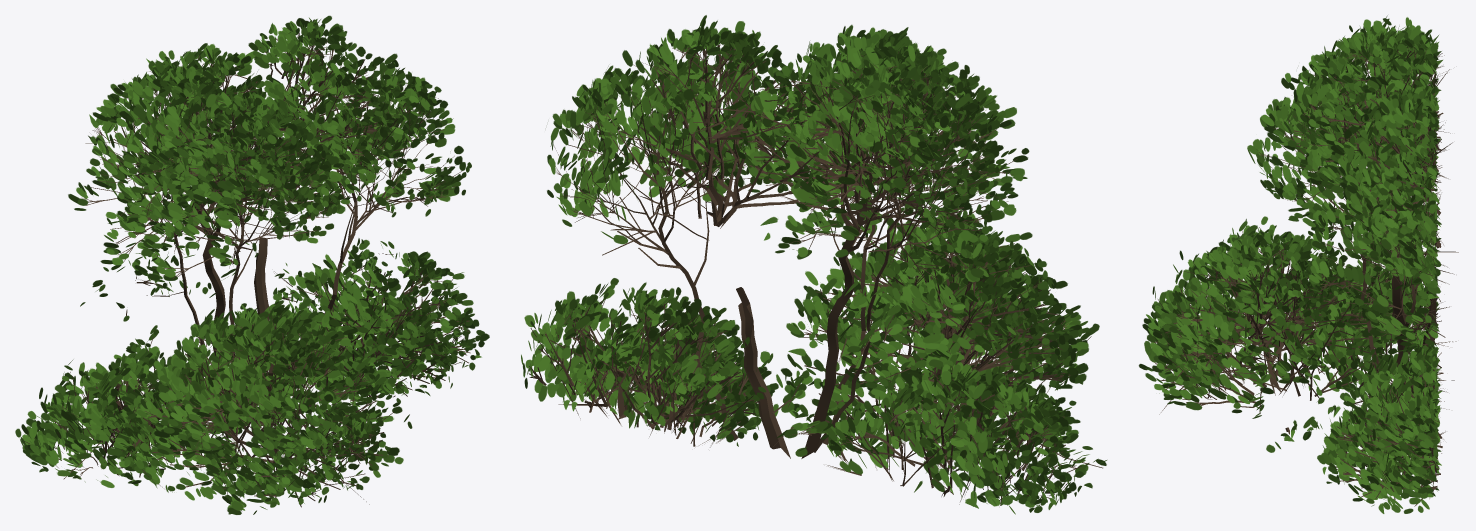
3 views of the same model, side by side, from view 1: azimuth 30°, elevation 25°; view 2: azimuth 150°, elevation 25°; view 3: azimuth 270°, elevation 25° (orthographic). The views are drawn at different scales.
Parts seen in each view (by area): view 1: oak 01.001_trunk_Mat.001_0.257; view 2: oak 01.001_trunk_Mat.001_0.257; view 3: oak 01.001_trunk_Mat.001_0.257.
Boxes of the visible parts, bbox=[...] form: oak 01.001_trunk_Mat.001_0.257: bbox=[15, 15, 489, 514]; oak 01.001_trunk_Mat.001_0.257: bbox=[521, 15, 1106, 514]; oak 01.001_trunk_Mat.001_0.257: bbox=[1138, 15, 1458, 513].
Bounding box in the file's own units: 4.36 × 3.42 × 2.69.
2 materials, 1 textured.
